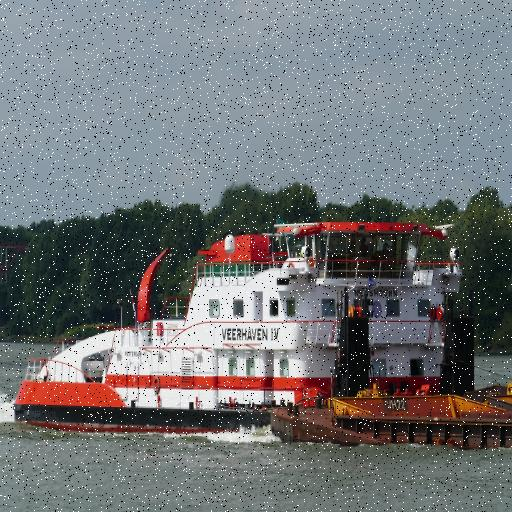tugboat: (8, 210, 481, 446)
